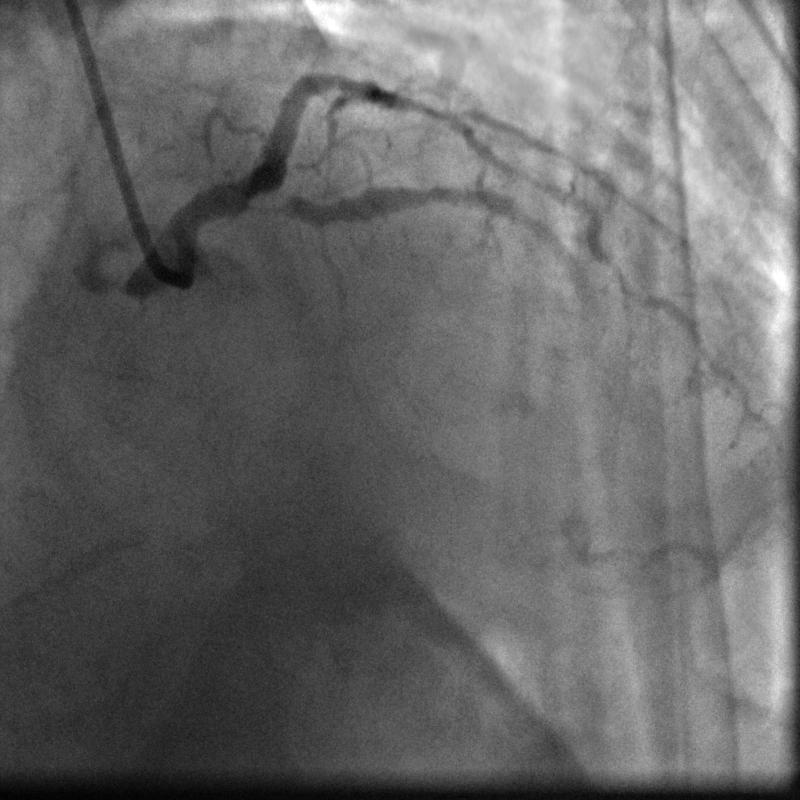Stenosis: (257, 180, 298, 227)
